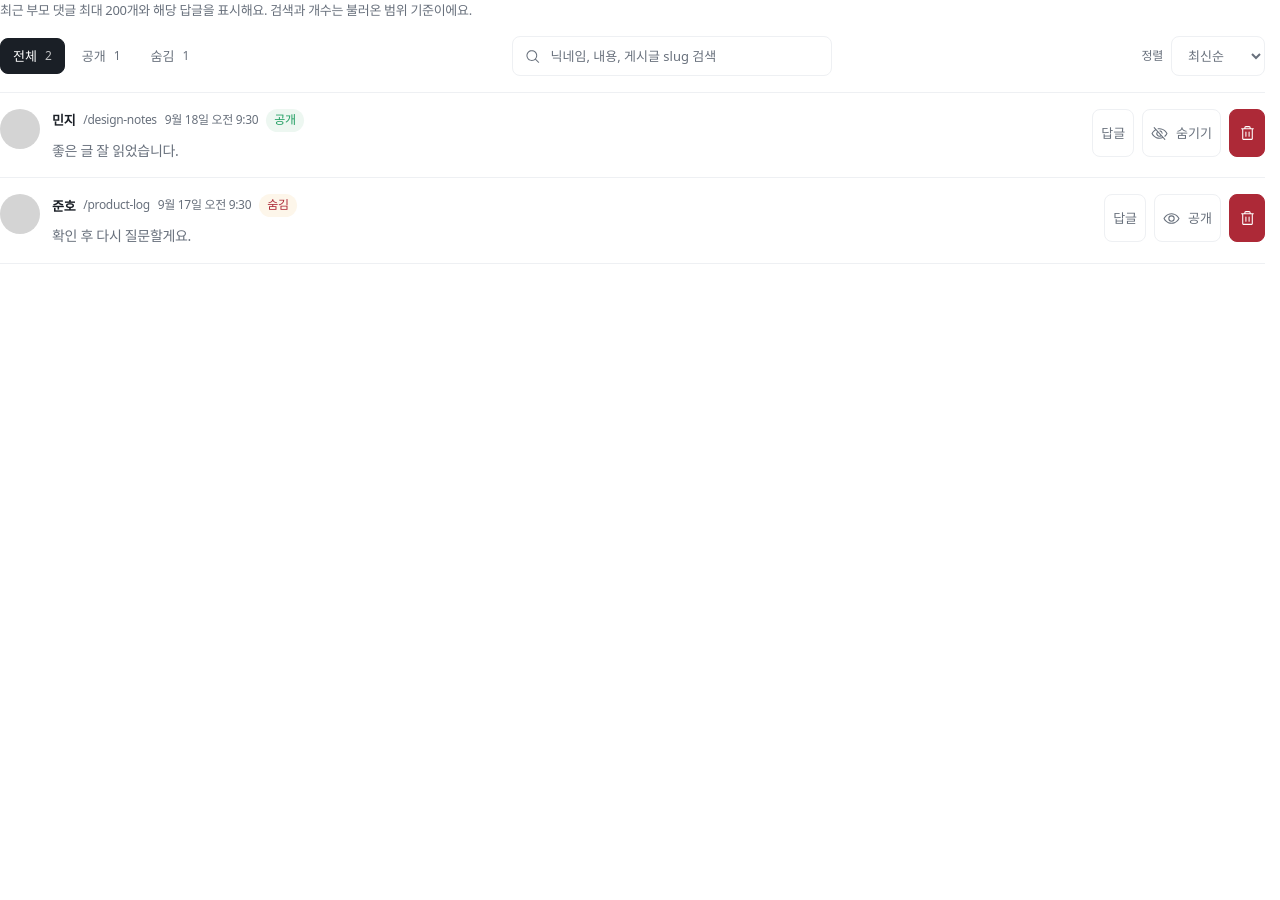
Test case: AdminComments › cancel and Escape do not delete; failure keeps the target and confirmation for retry
The image size is (1280, 900).
Expected: the text "민지" is shown, [52, 110, 75, 130]
Click the button named "민지 댓글 삭제" in the row of "민지" at (1247,133), box [1229, 109, 1265, 157]
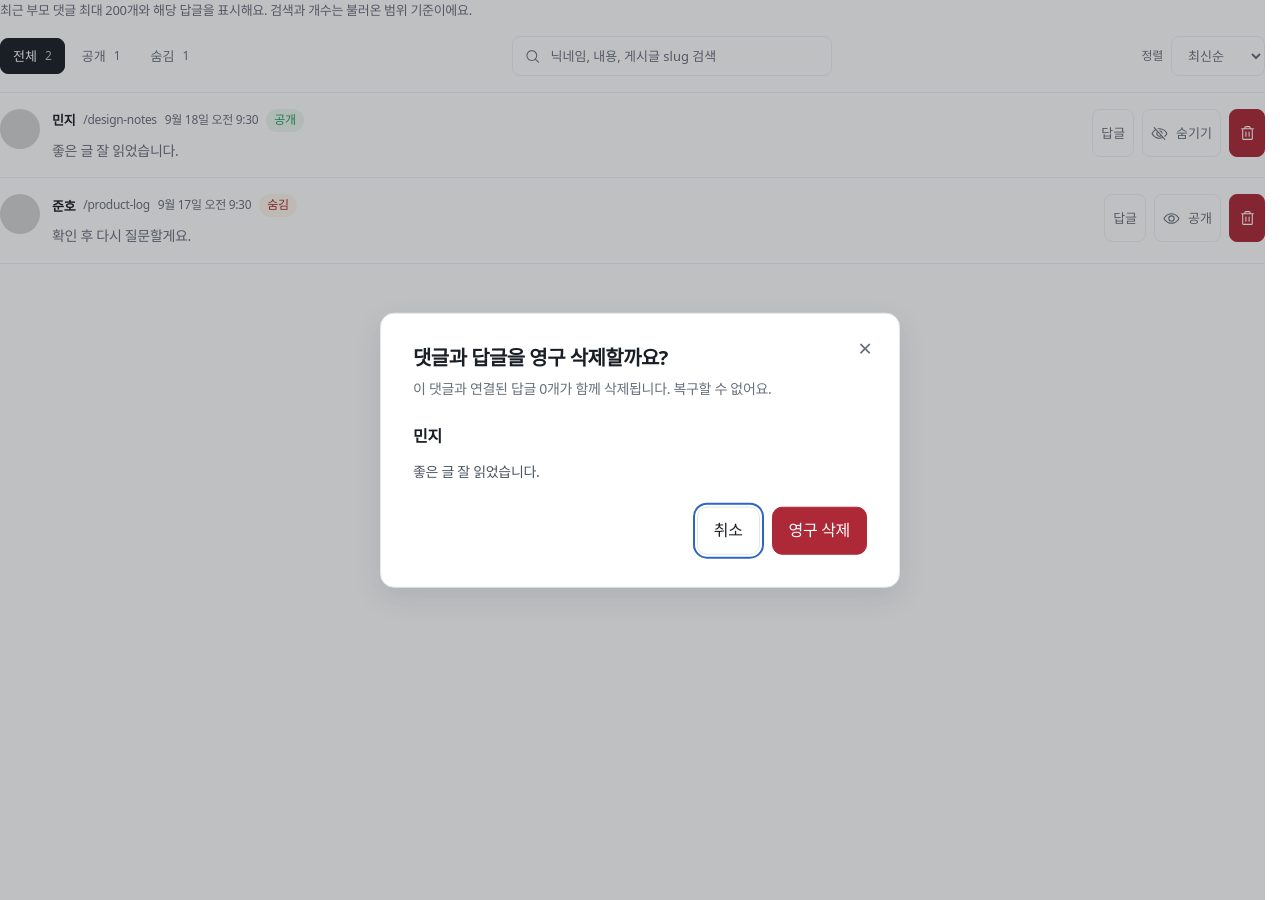
Click the button "취소" at (728,530), box [697, 506, 760, 554]
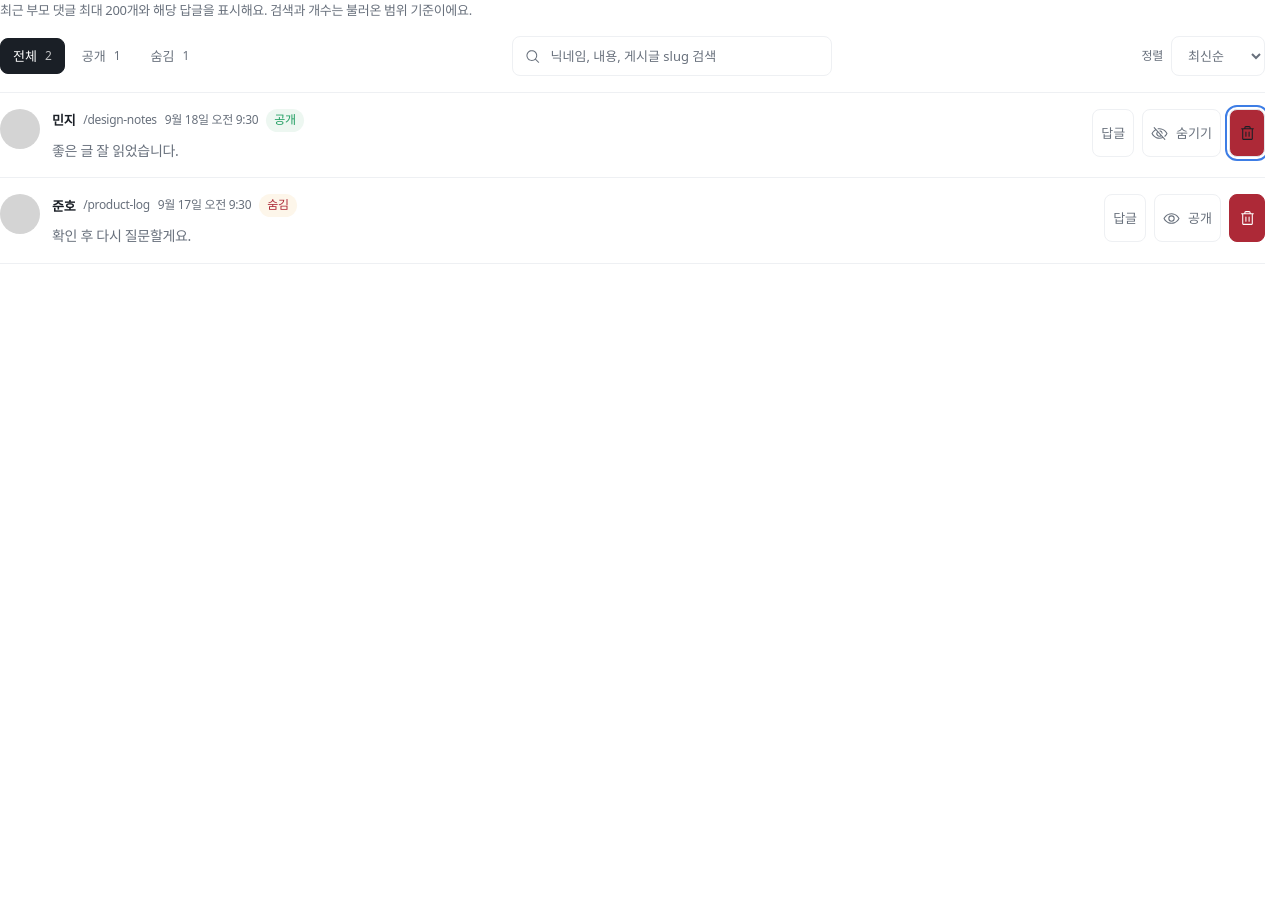
Expected: the dialog is gone
Click the button named "민지 댓글 삭제" in the row of "민지" at (1247,133), box [1229, 109, 1265, 157]
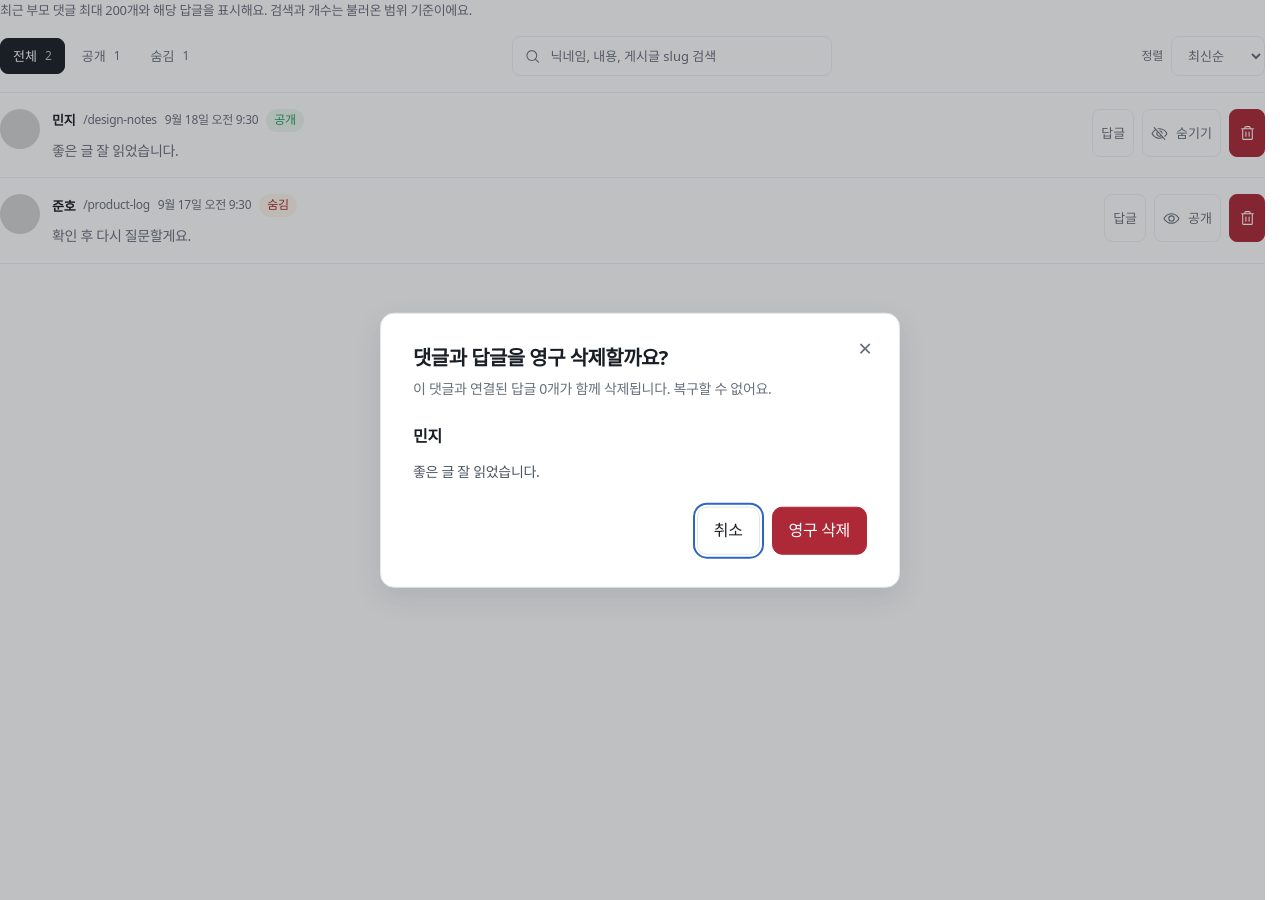
Press Escape in the dialog, box [380, 313, 900, 587]
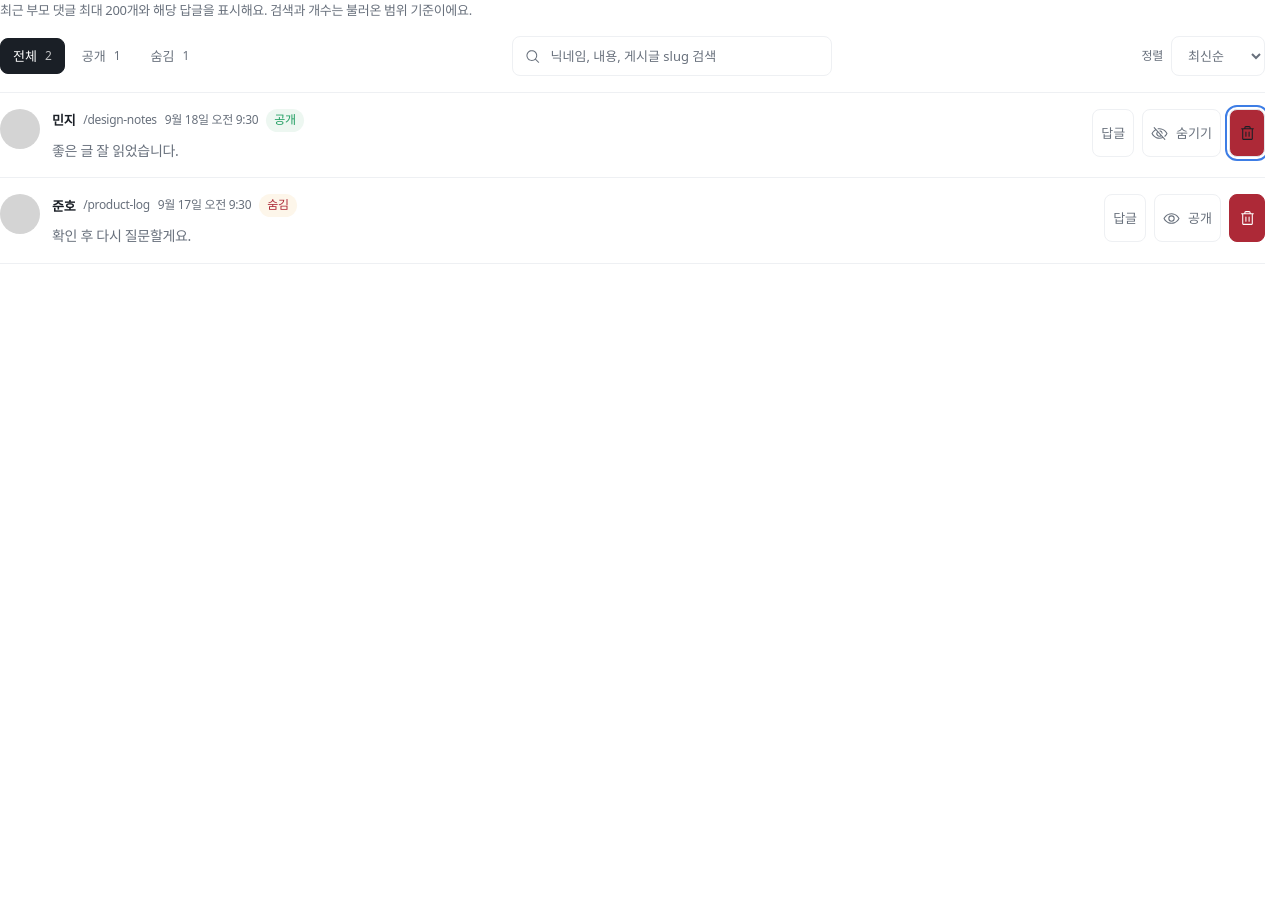
Expected: the dialog is gone
Click the button named "민지 댓글 삭제" in the row of "민지" at (1247,133), box [1229, 109, 1265, 157]
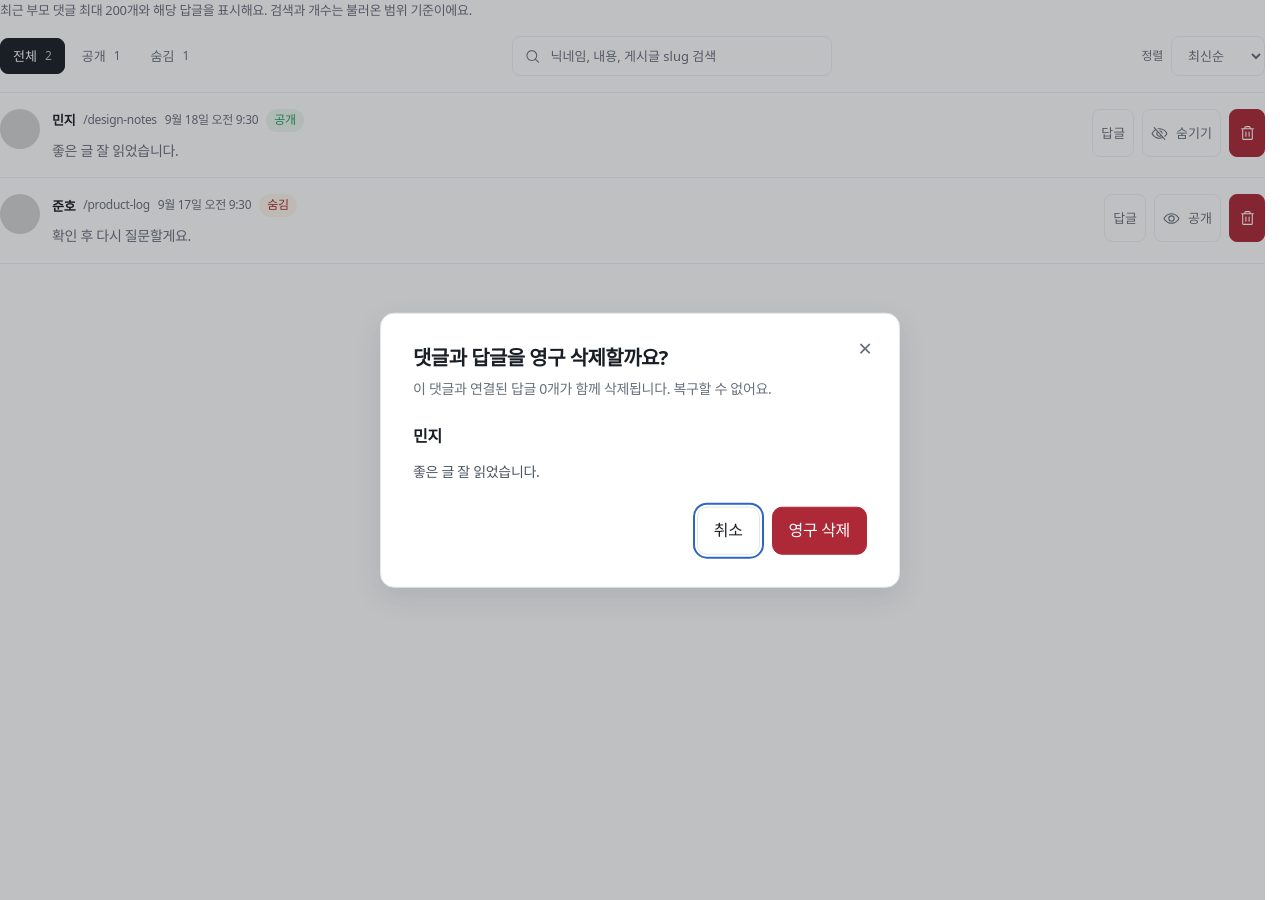
Click the button "영구 삭제" at (819,530), box [772, 506, 867, 554]
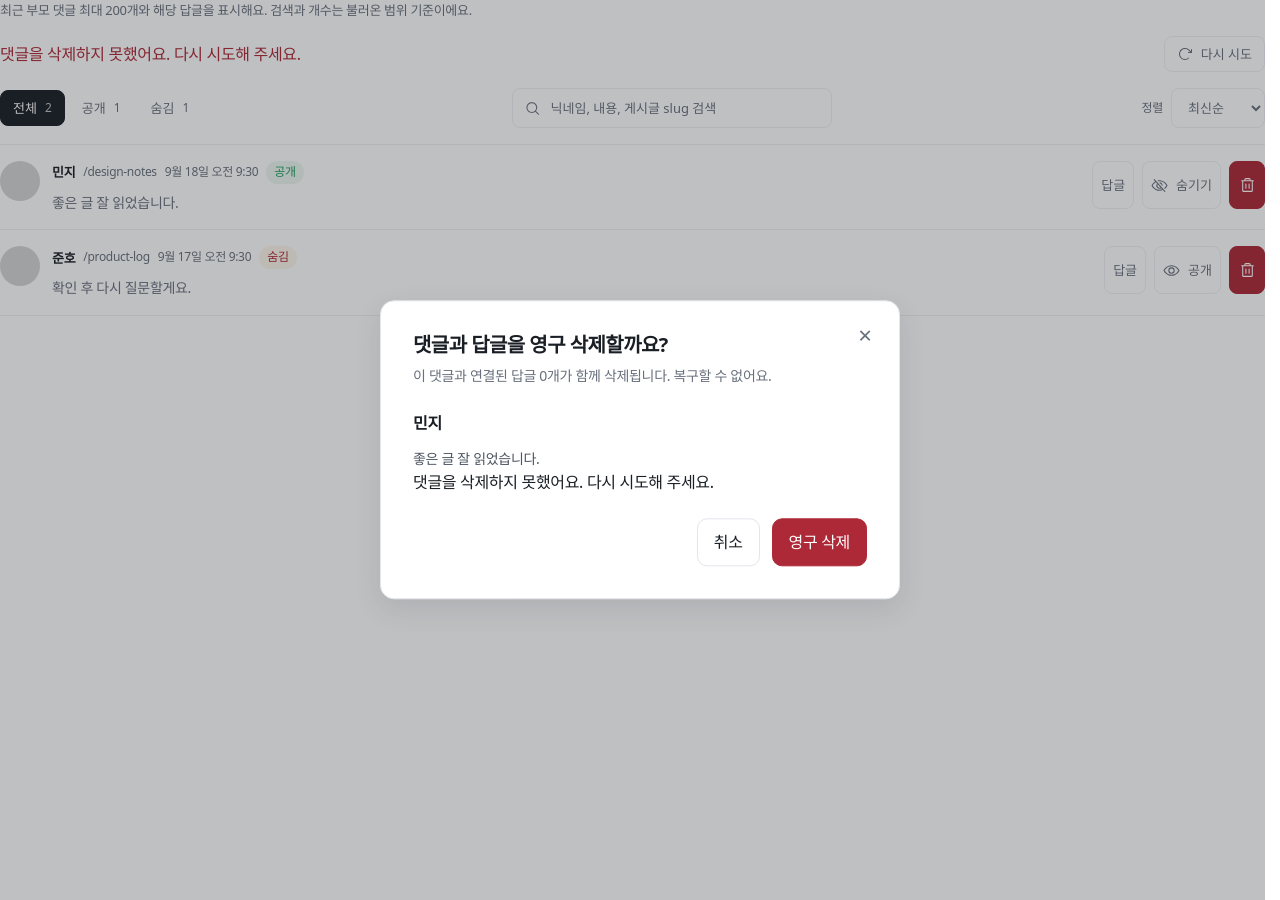
Expected: the dialog shows "좋은 글 잘 읽었습니다.", [413, 449, 539, 468]
Expected: the button "영구 삭제" is enabled, [772, 519, 867, 567]
Expected: the message shows "댓글을 삭제하지 못했어요.", [413, 471, 714, 493]
